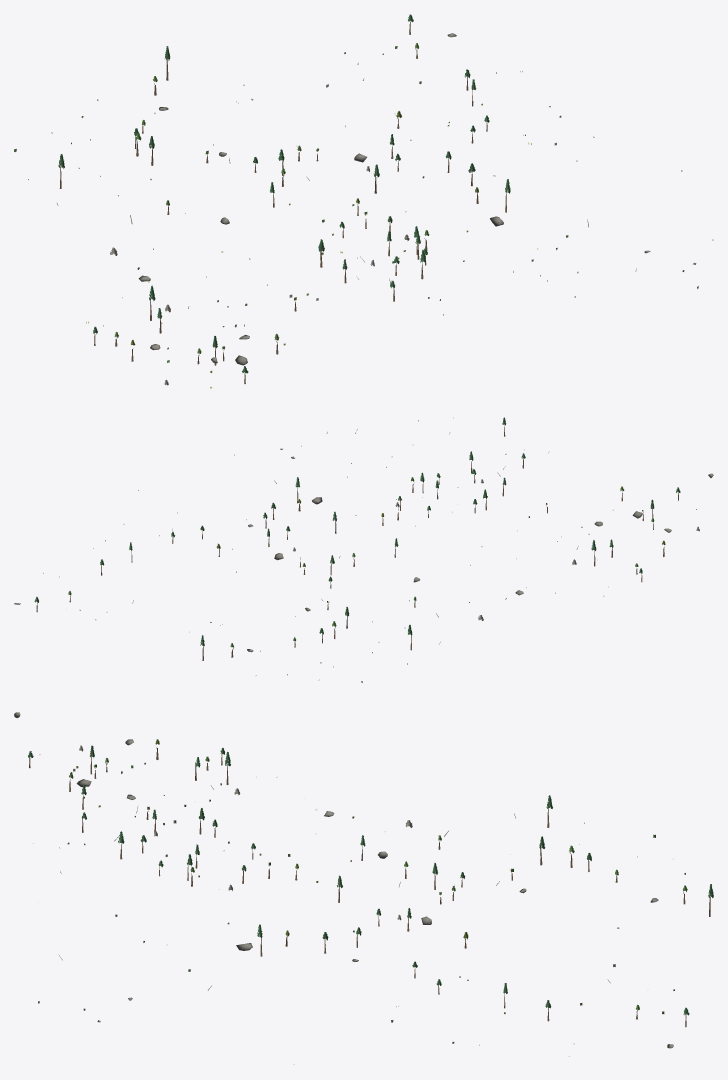
File: arch_land_scatter_c18_17_lod1.glb
The picture shows the model from 3 angles, top to bottom: view 1: azimuth 30°, elevation 25°; view 2: azimuth 150°, elevation 25°; view 3: azimuth 270°, elevation 25°; orthographic projection. The views are drawn at different scales.
Visible parts, largest first — view 1: arch_land_scatter_c18_17_lod1; view 2: arch_land_scatter_c18_17_lod1; view 3: arch_land_scatter_c18_17_lod1.
Part boxes in pixels (x1,y1,x2,y2): arch_land_scatter_c18_17_lod1: [14, 14, 713, 388]; arch_land_scatter_c18_17_lod1: [14, 417, 713, 682]; arch_land_scatter_c18_17_lod1: [14, 712, 713, 1064].
Size of the model in its own units: 257 by 43.53 by 256.
